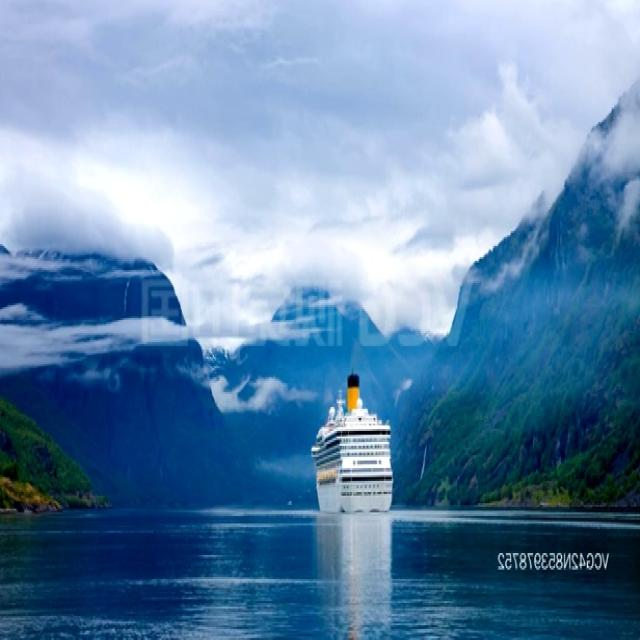passenger ship: (313, 372, 396, 513)
